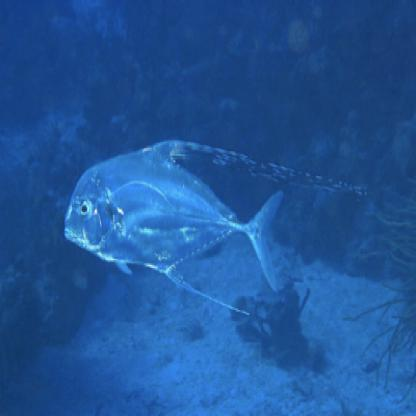Carangidae -Jacks-: (61, 133, 314, 316)
